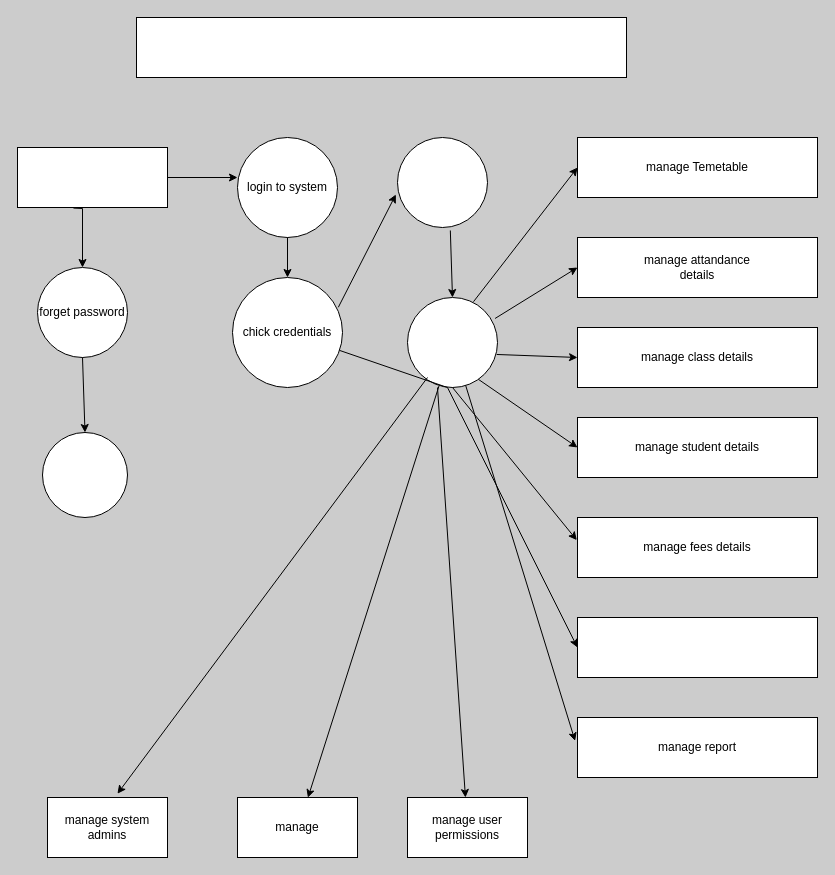
Image size: 835x875. Some labels were removed from this diagram. Here are the shapes that lost their labels. From the top down, the box of each, then its label:
(136, 16, 626, 78): Student Informaction System
(16, 146, 168, 208): Admin
(396, 136, 488, 228): chick rates of access
(406, 296, 498, 388): manage models
(42, 432, 128, 518): send email to user
(576, 616, 818, 678): manage teacher details
